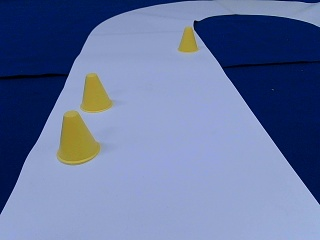cone: (57, 111, 100, 163), (79, 74, 113, 112), (178, 27, 198, 51)
